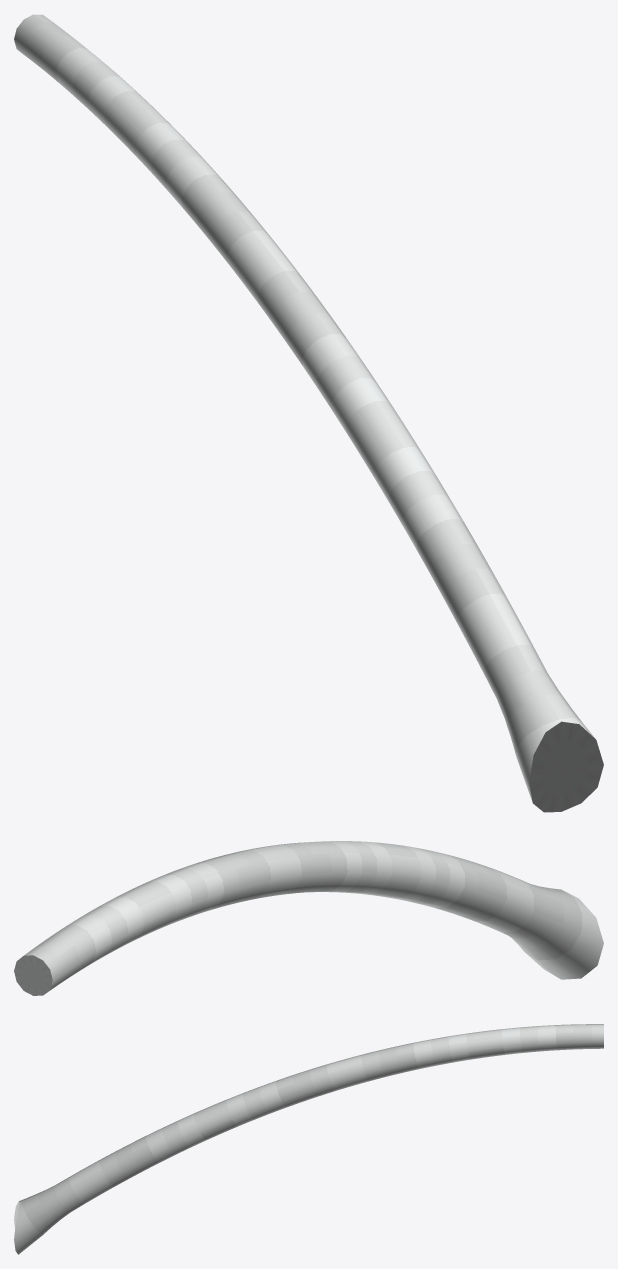
Rendered from luminairearm_caltrans10ft_inv.obj.
The picture shows the model from 3 angles, top to bottom: view 1: azimuth 30°, elevation 25°; view 2: azimuth 150°, elevation 25°; view 3: azimuth 270°, elevation 25°; orthographic projection. The views are drawn at different scales.
Parts seen in each view (by area): view 1: luminairearm_caltrans10ft_inv; view 2: luminairearm_caltrans10ft_inv; view 3: luminairearm_caltrans10ft_inv.
Part boxes in pixels (<box>): luminairearm_caltrans10ft_inv: <box>14,14,603,812</box>; luminairearm_caltrans10ft_inv: <box>14,841,603,995</box>; luminairearm_caltrans10ft_inv: <box>14,1024,603,1254</box>.
Size of the model in its own units: 0.081 by 0.4252 by 1.
